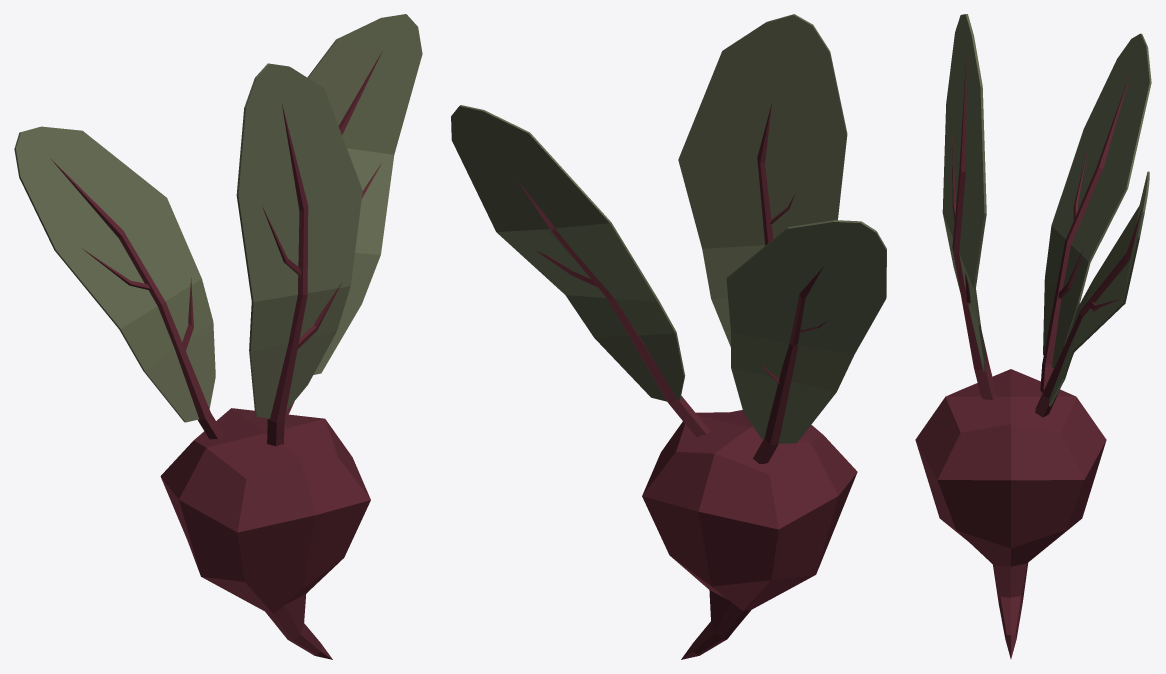
File: Beet_4.glb
The picture shows the model from 3 angles, left to right: view 1: azimuth 30°, elevation 25°; view 2: azimuth 150°, elevation 25°; view 3: azimuth 270°, elevation 25°; orthographic projection. The views are drawn at different scales.
Visible parts, largest first — view 1: Beet_4_Cube.004; view 2: Beet_4_Cube.004; view 3: Beet_4_Cube.004.
Part boxes in pixels (x1,y1,x2,y2): Beet_4_Cube.004: (14, 14, 422, 659); Beet_4_Cube.004: (451, 14, 886, 659); Beet_4_Cube.004: (915, 14, 1151, 658).
Bounding box in the file's own units: 0.7512 × 1.1 × 0.3898.
